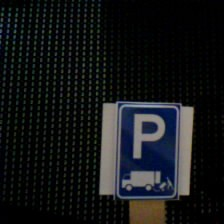load: (106, 95, 196, 204)
